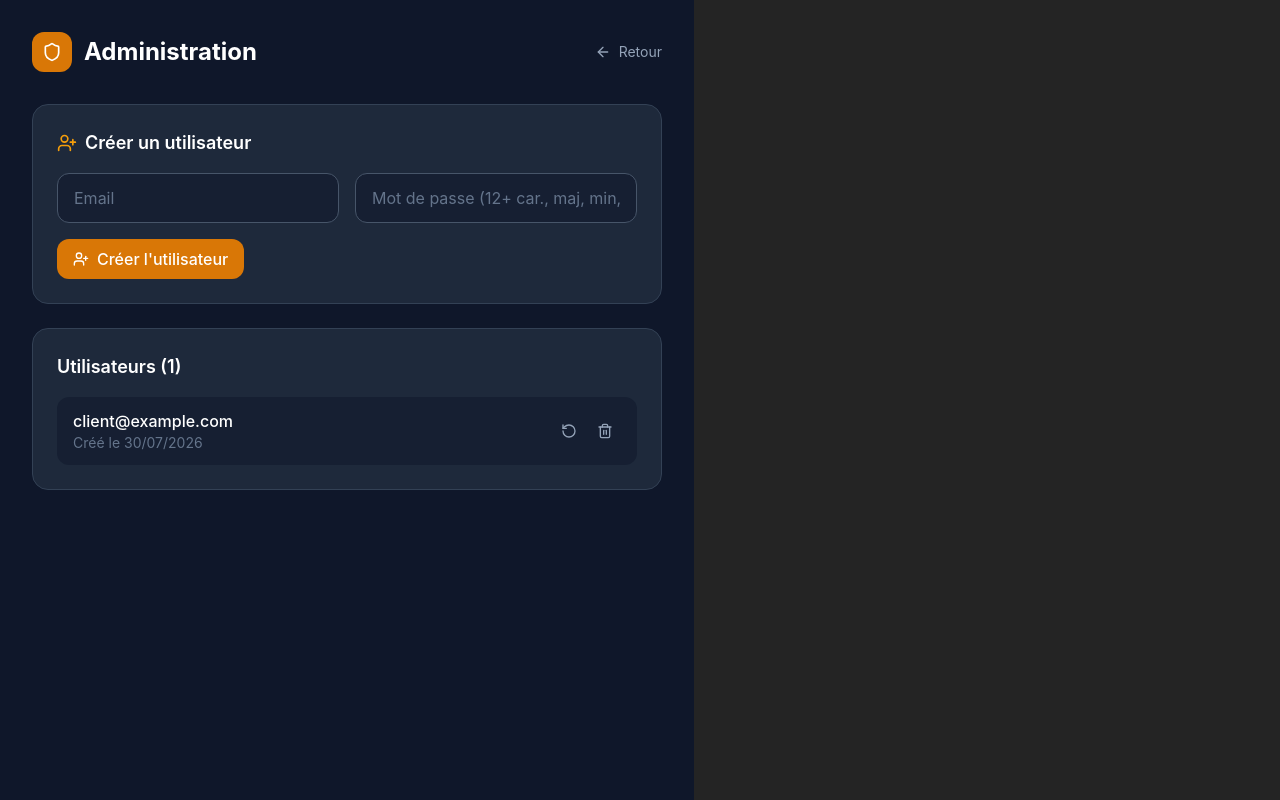
Test: AdminPage project reset › requires the exact email before resetting a project
Click the button named "Réinitialiser le projet de client@example.com": [569, 431] box [553,415,585,447]
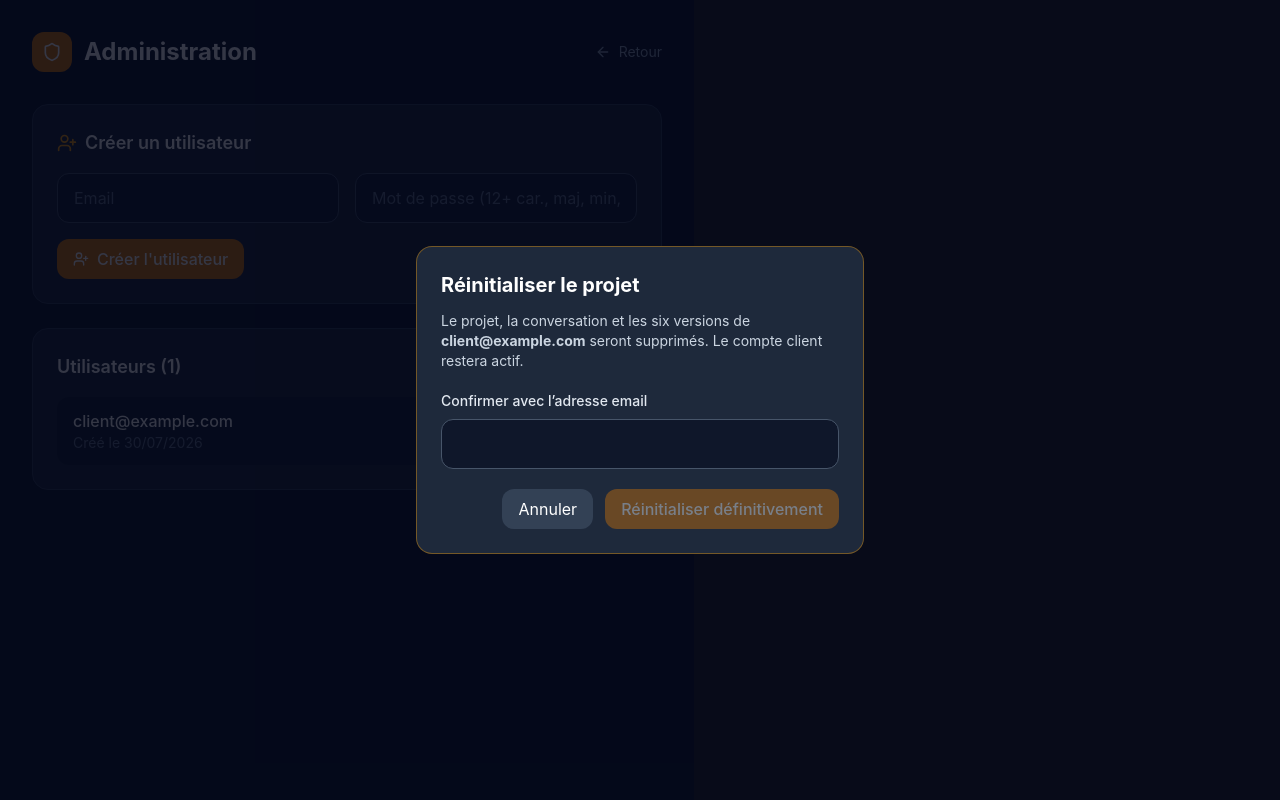
Expected: the dialog shows "client@example.com", [441,332,586,349]
Expected: the button "Réinitialiser définitivement" is disabled, [605,489,839,529]
In the field labelled "Confirmer avec l’adresse email": [640, 444] box [441,419,839,469], type "client@example.com"
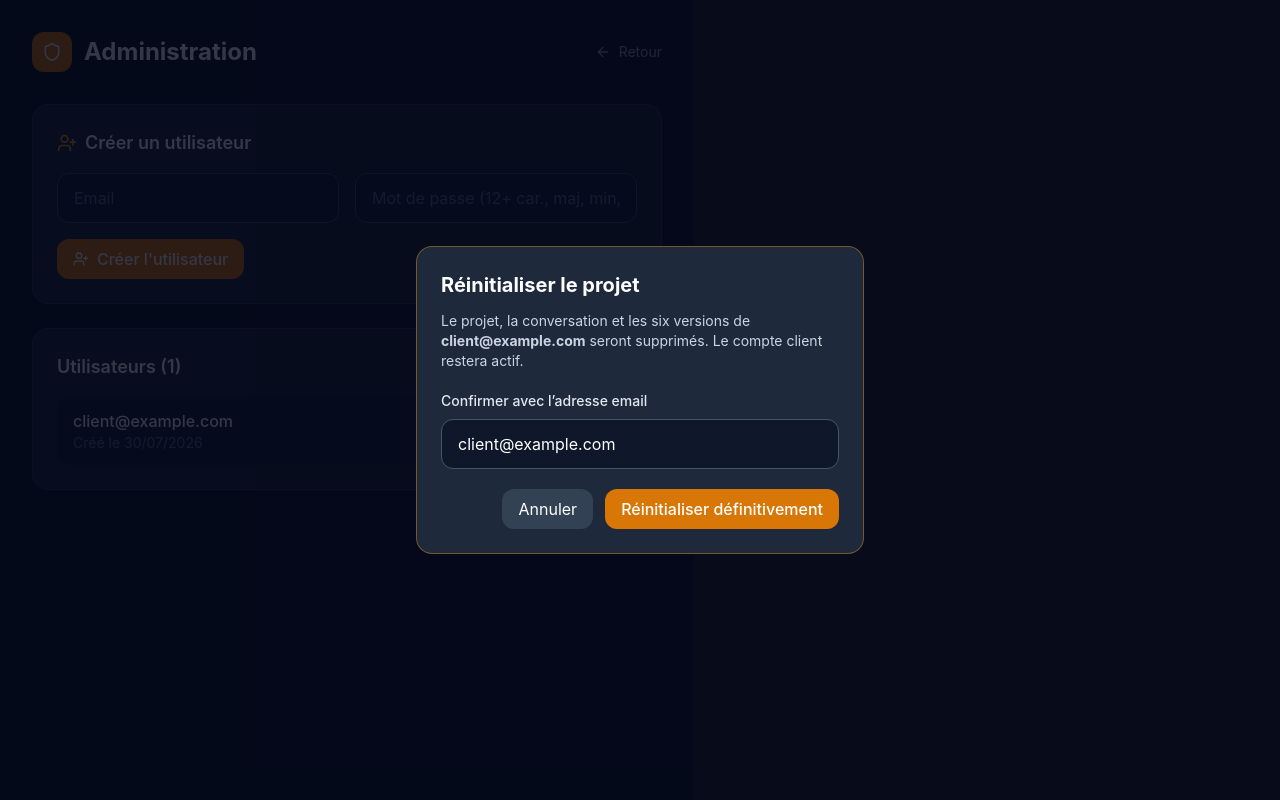
Expected: the button "Réinitialiser définitivement" is enabled, [605,489,839,529]
